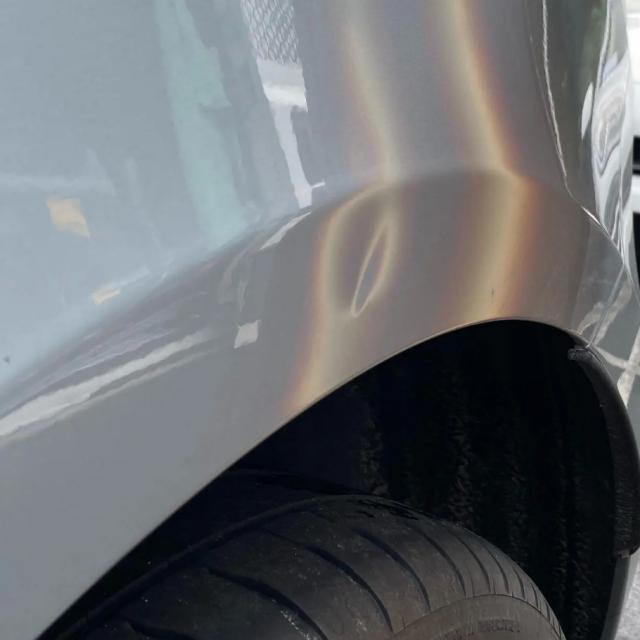dents: (298, 189, 436, 323)
